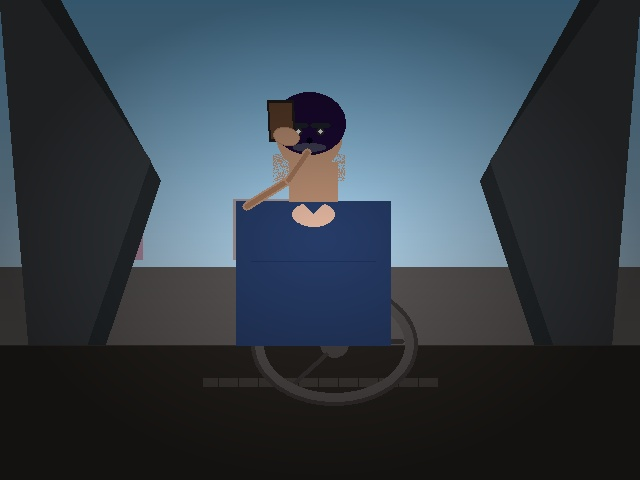phone_usage: (260, 92, 302, 149)
